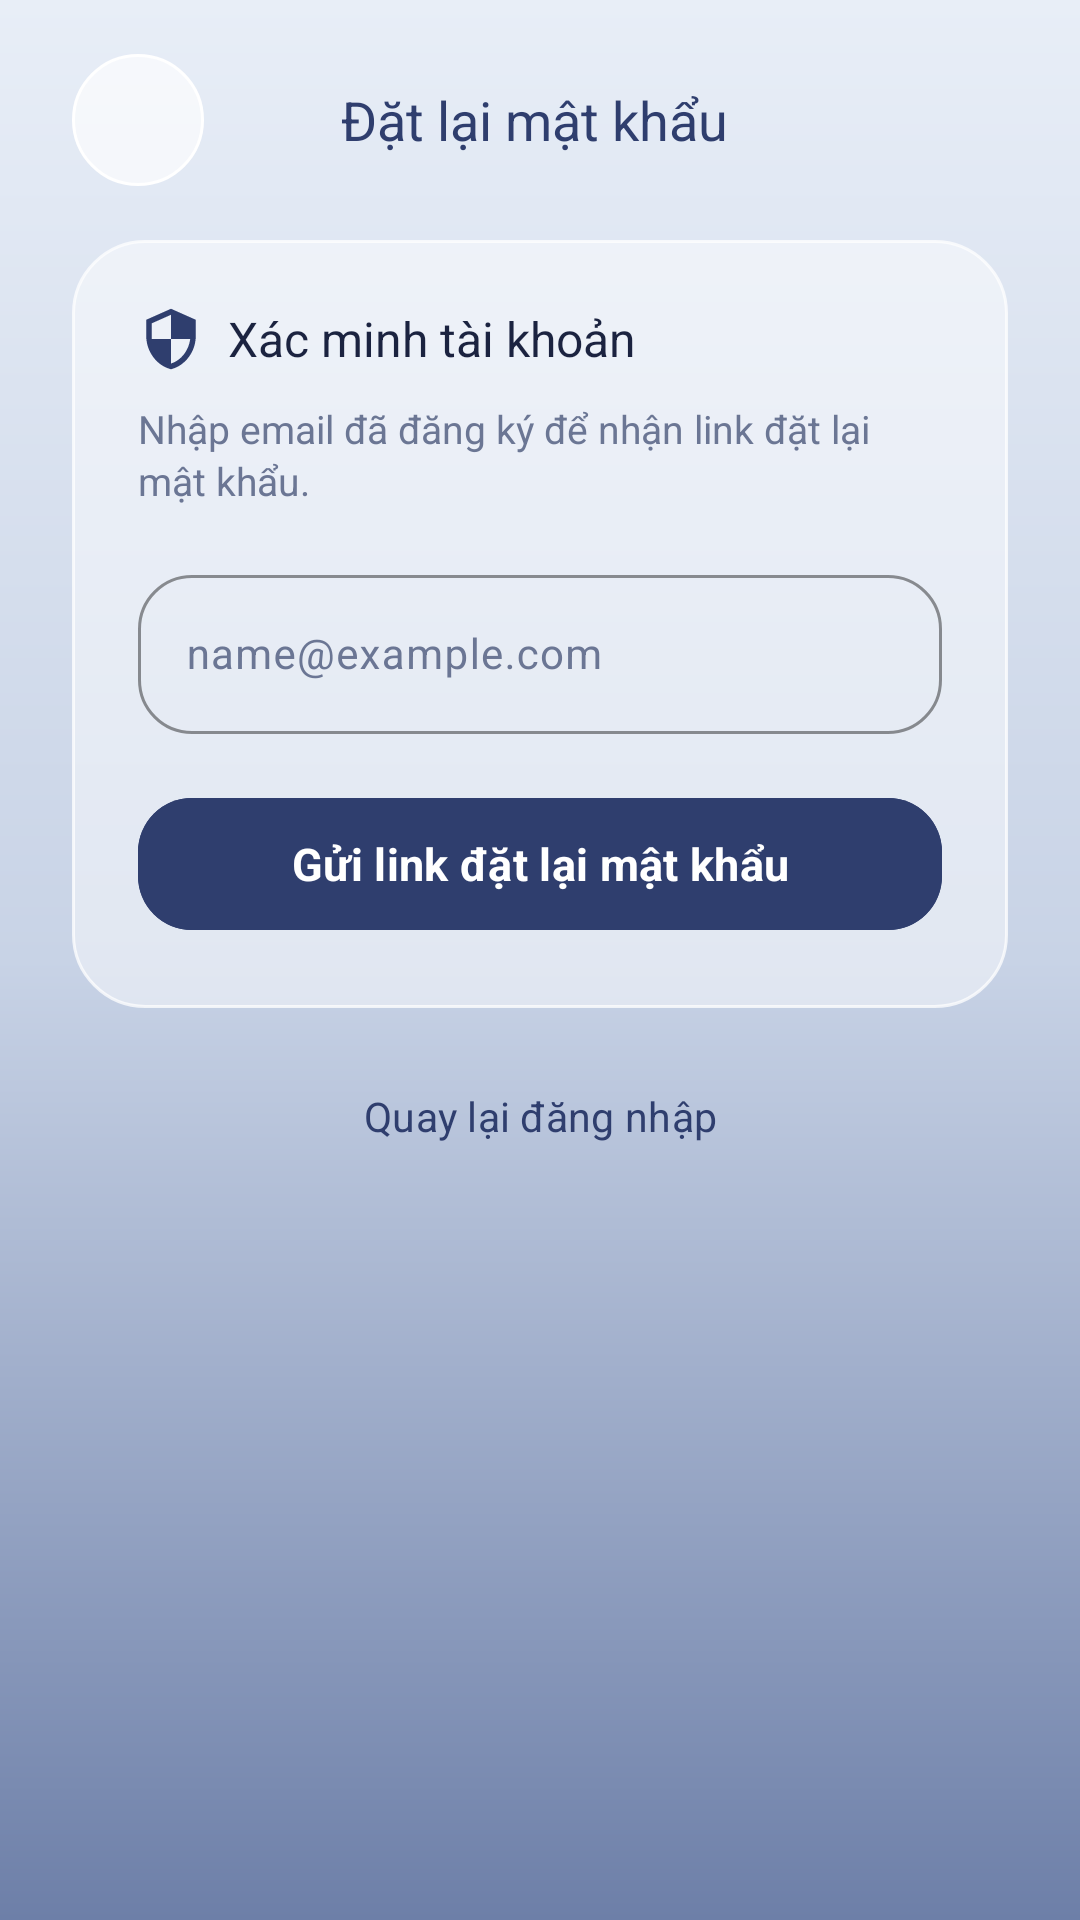

Screen size 1080 × 1920. Icon name, then its box in pixels as bbox=(x1, y1, x2, y2):
shield: bbox=(146, 309, 196, 370)
